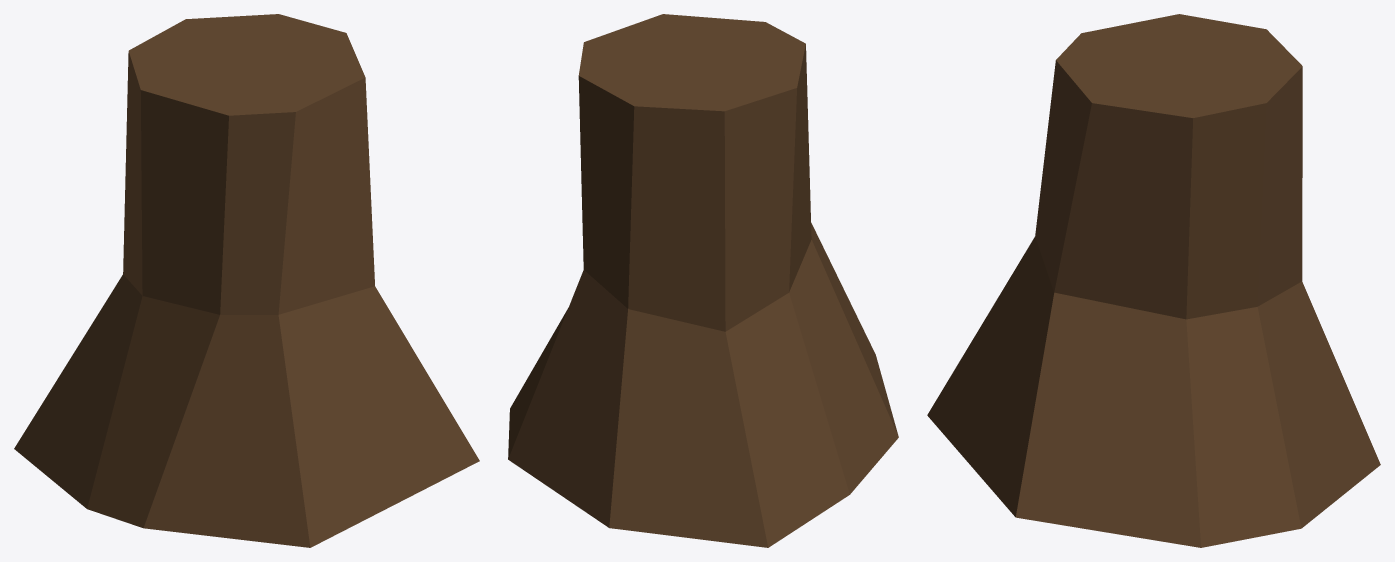
File: AkarPohon2.fbx
The picture shows the model from 3 angles, left to right: view 1: azimuth 30°, elevation 25°; view 2: azimuth 150°, elevation 25°; view 3: azimuth 270°, elevation 25°; orthographic projection. The views are drawn at different scales.
Parts seen in each view (by area): view 1: stump_2a; view 2: stump_2a; view 3: stump_2a.
Boxes of the visible parts, bbox=[...] form: stump_2a: bbox=[14, 14, 479, 547]; stump_2a: bbox=[508, 14, 898, 547]; stump_2a: bbox=[927, 14, 1380, 547].
Bounding box in the file's own units: 84.77 × 98.37 × 97.71.
